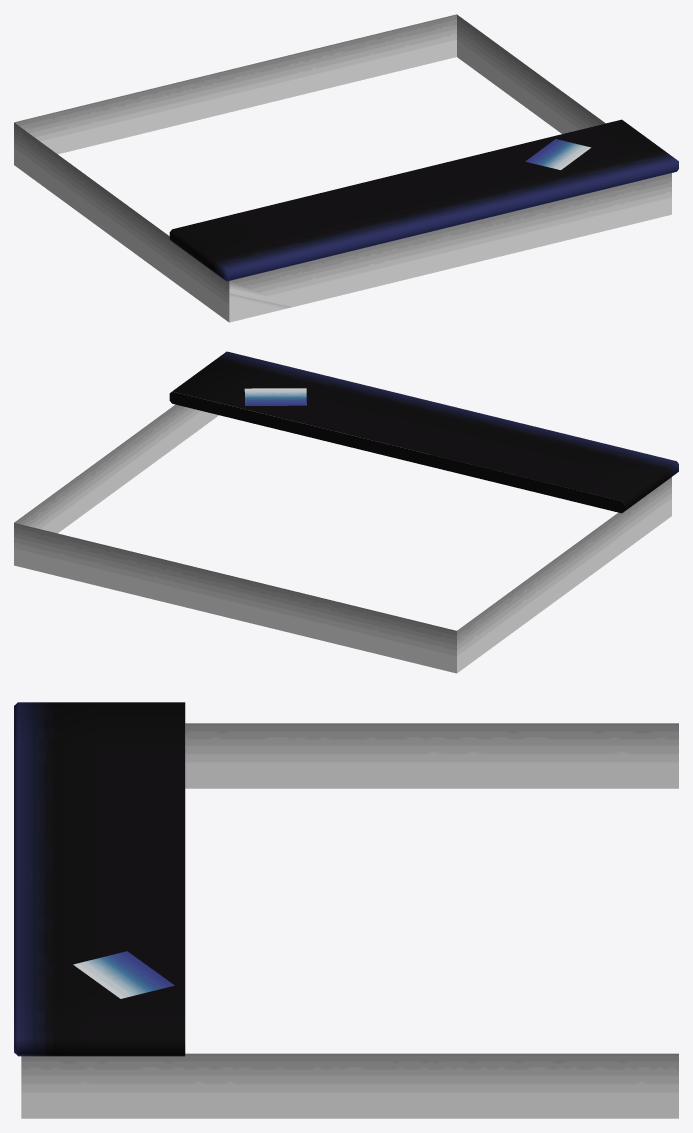
The picture shows the model from 3 angles, top to bottom: view 1: azimuth 30°, elevation 25°; view 2: azimuth 150°, elevation 25°; view 3: azimuth 270°, elevation 25°; orthographic projection. The views are drawn at different scales.
Visible parts, largest first — view 1: Joint_0_Object_0, Joint_0_Object_2, Joint_0_Object_1; view 2: Joint_0_Object_0, Joint_0_Object_2, Joint_0_Object_1; view 3: Joint_0_Object_0, Joint_0_Object_2, Joint_0_Object_1.
Boxes of the visible parts, <box> form: Joint_0_Object_0: <box>14,14,671,322</box>; Joint_0_Object_2: <box>169,119,678,281</box>; Joint_0_Object_1: <box>525,139,591,169</box>; Joint_0_Object_0: <box>14,404,671,673</box>; Joint_0_Object_2: <box>169,351,678,513</box>; Joint_0_Object_1: <box>244,388,306,405</box>; Joint_0_Object_0: <box>21,723,678,1118</box>; Joint_0_Object_2: <box>14,702,185,1056</box>; Joint_0_Object_1: <box>73,951,174,998</box>.
Size of the model in its own units: 3900 by 451 by 3235.
